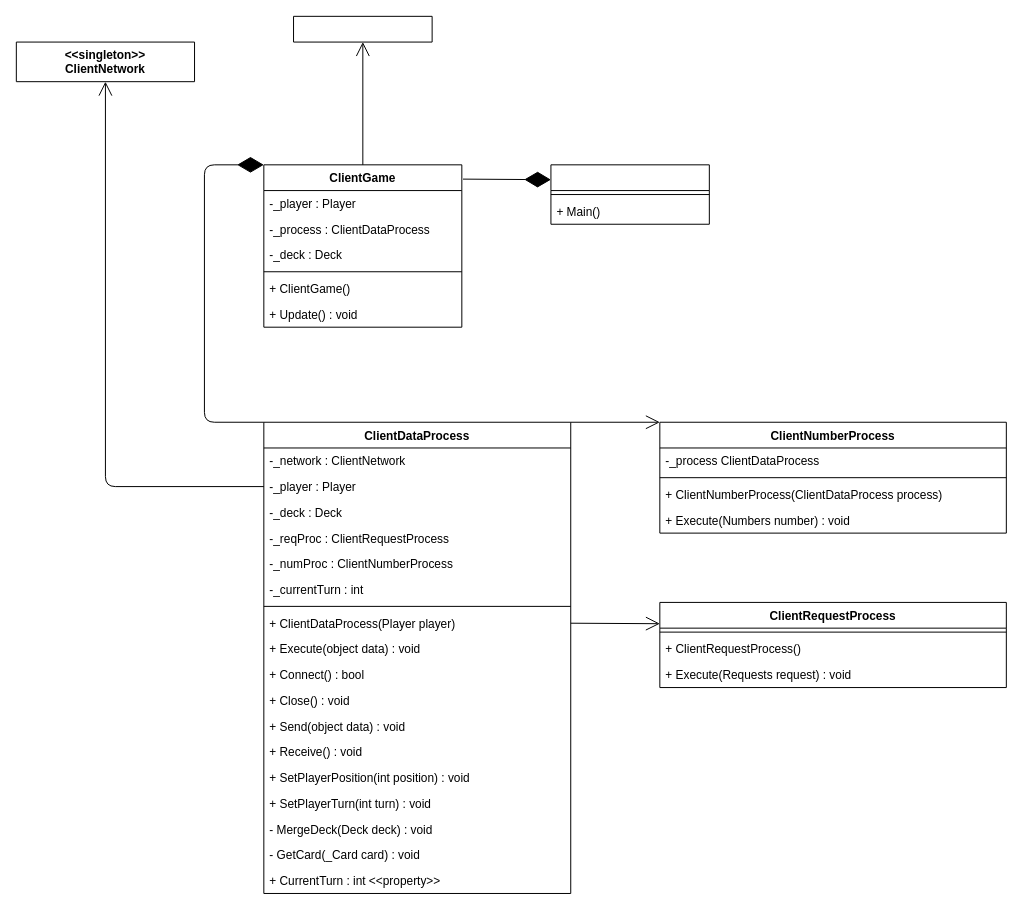
The diagram is 1023 pixels wide and 910 high, and some of its shapes have lost their labels. Here are the shapes that lost their labels. From the top down, the box of each, then its label:
(293, 15, 432, 42): Player
(550, 164, 709, 224): ClientProgram
